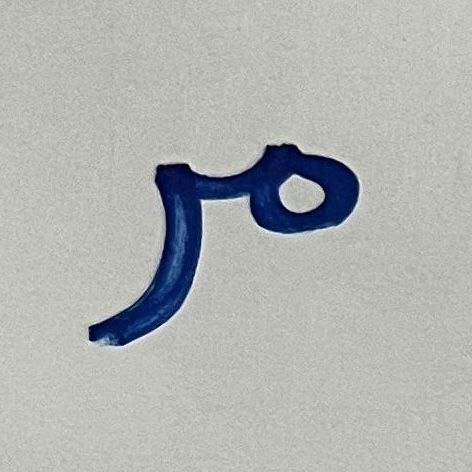meem: (218, 108, 388, 274)
reh: (68, 115, 214, 377)
